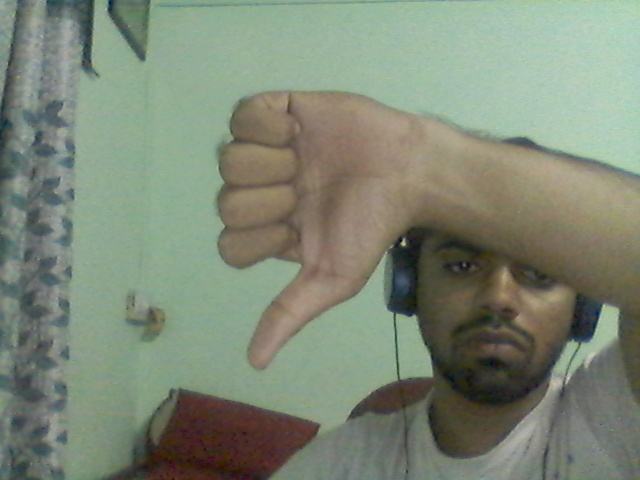No: (189, 57, 462, 387)
